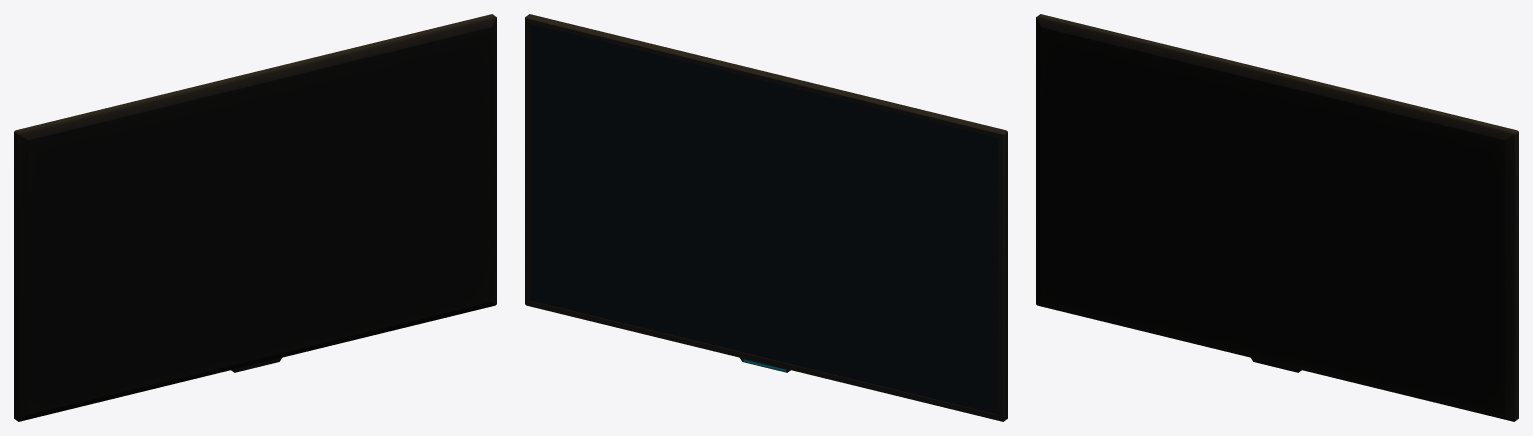
3 renders of one model, left to right at view 1: azimuth 30°, elevation 25°; view 2: azimuth 150°, elevation 25°; view 3: azimuth 330°, elevation 25°, orthographic.
Parts seen in each view (by area): view 1: CR_TV; view 2: CR_TV_ScreenDisplay, CR_TV_Glass, CR_TV; view 3: CR_TV.
Boxes of the visible parts, bbox=[...] form: CR_TV: bbox=[14, 14, 496, 421]; CR_TV_ScreenDisplay: bbox=[531, 24, 998, 414]; CR_TV_Glass: bbox=[531, 25, 997, 413]; CR_TV: bbox=[525, 14, 1007, 421]; CR_TV: bbox=[1036, 14, 1518, 421].
Size of the model in its own units: 229 by 134 by 5.68.
